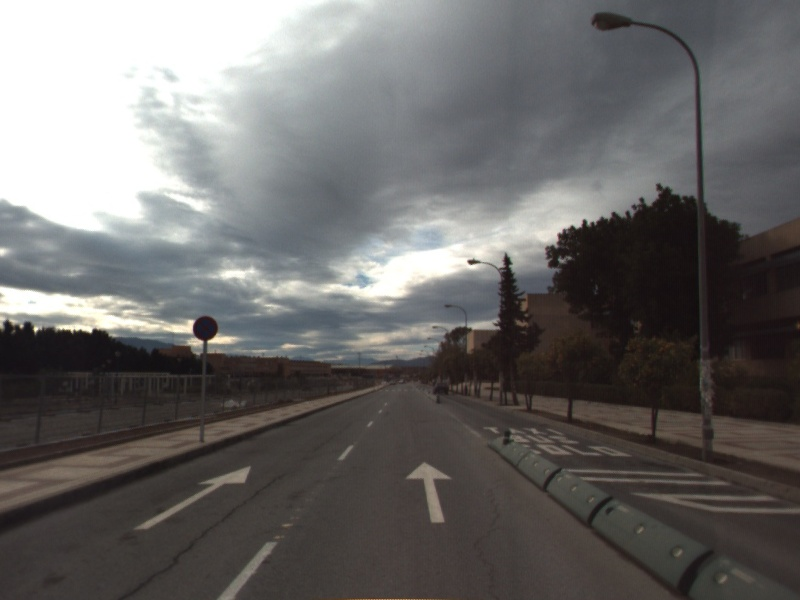STRAIGHT: (131, 464, 253, 531), (403, 460, 455, 525)
